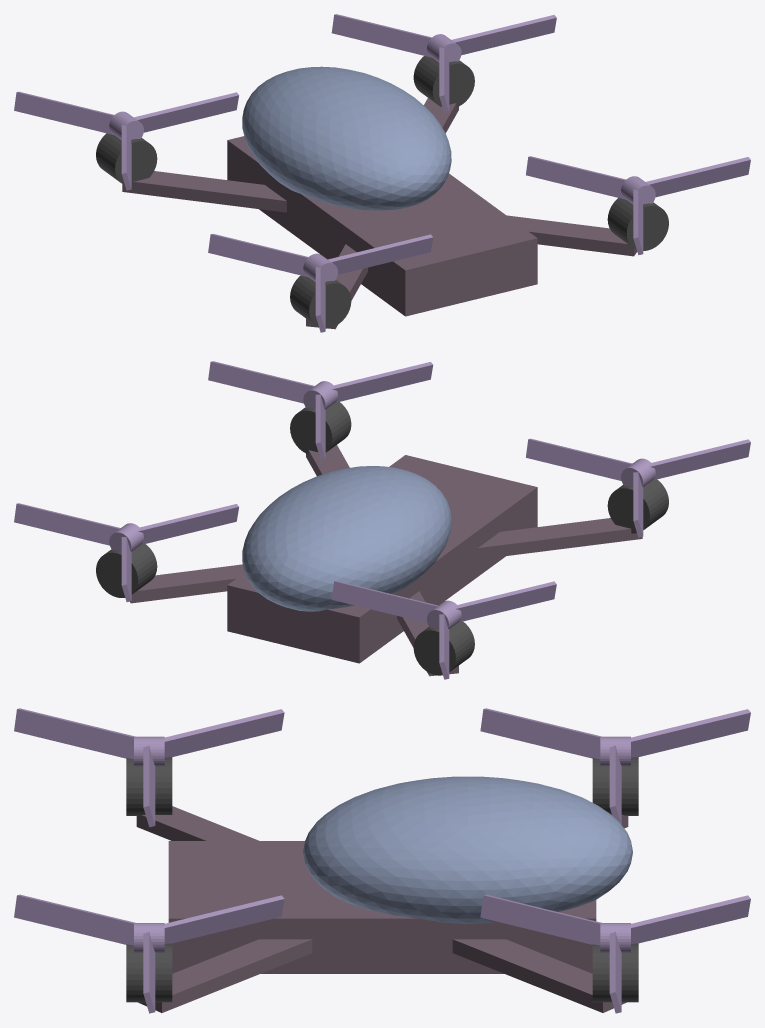
Rendered from BabyFox.glb.
The picture shows the model from 3 angles, top to bottom: view 1: azimuth 30°, elevation 25°; view 2: azimuth 150°, elevation 25°; view 3: azimuth 270°, elevation 25°; orthographic projection. The views are drawn at different scales.
Parts seen in each view (by area): view 1: canopy, frame_body, prop_0, prop_3, prop_1, prop_2, arm_3, arm_0, motor_2, motor_0, motor_1, motor_3 (+2 smaller); view 2: canopy, frame_body, prop_3, prop_2, prop_1, prop_0, arm_2, arm_1, motor_3, motor_1, motor_0, motor_2 (+2 smaller); view 3: canopy, frame_body, prop_2, prop_0, prop_1, prop_3, arm_1, arm_0, arm_2, motor_0, motor_1, motor_2 (+1 smaller).
Part boxes in pixels (x1,y1,x2,y2): canopy: (242,66,451,210); frame_body: (227,136,537,316); prop_0: (526,156,750,255); prop_3: (14,91,238,190); prop_1: (331,14,556,112); prop_2: (208,234,433,332); arm_3: (122,171,286,212); arm_0: (507,215,637,256); motor_2: (290,275,351,328); motor_0: (607,198,668,250); motor_1: (413,56,474,107); motor_3: (96,133,157,186); canopy: (242,466,451,611); frame_body: (227,455,537,663); prop_3: (331,580,556,679); prop_2: (526,438,750,537); prop_1: (14,503,238,601); prop_0: (208,361,433,459); arm_2: (478,518,642,559); arm_1: (130,564,244,603); motor_3: (413,621,474,675); motor_1: (96,544,157,597); motor_0: (290,402,351,454); motor_2: (607,479,668,533); canopy: (303,776,632,923); frame_body: (168,841,596,973); prop_2: (14,708,284,827); prop_0: (14,894,284,1013); prop_1: (480,894,750,1013); prop_3: (480,708,750,824); arm_1: (452,939,626,1012); arm_0: (138,939,312,1012); arm_2: (136,806,258,840); motor_0: (126,943,172,1002); motor_1: (592,943,638,1002); motor_2: (126,757,172,815).
Size of the model in its own units: 0.2209 by 0.0516 by 0.2411.
